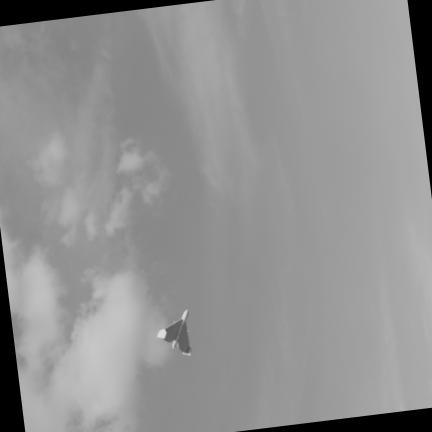Shahed: (157, 308, 190, 353)
